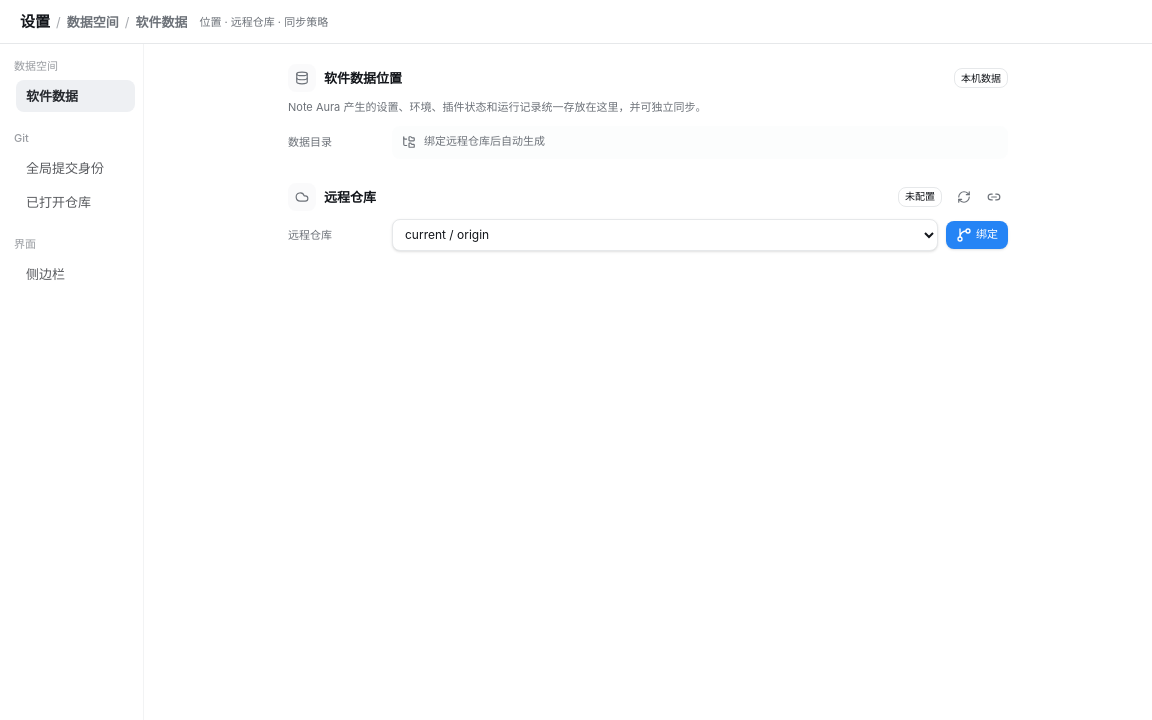
Test: SettingsPanel › shows the actual usage of each configured repository
Click the button "已打开仓库". click: (76, 202)
box: left=16, top=186, right=135, bottom=218
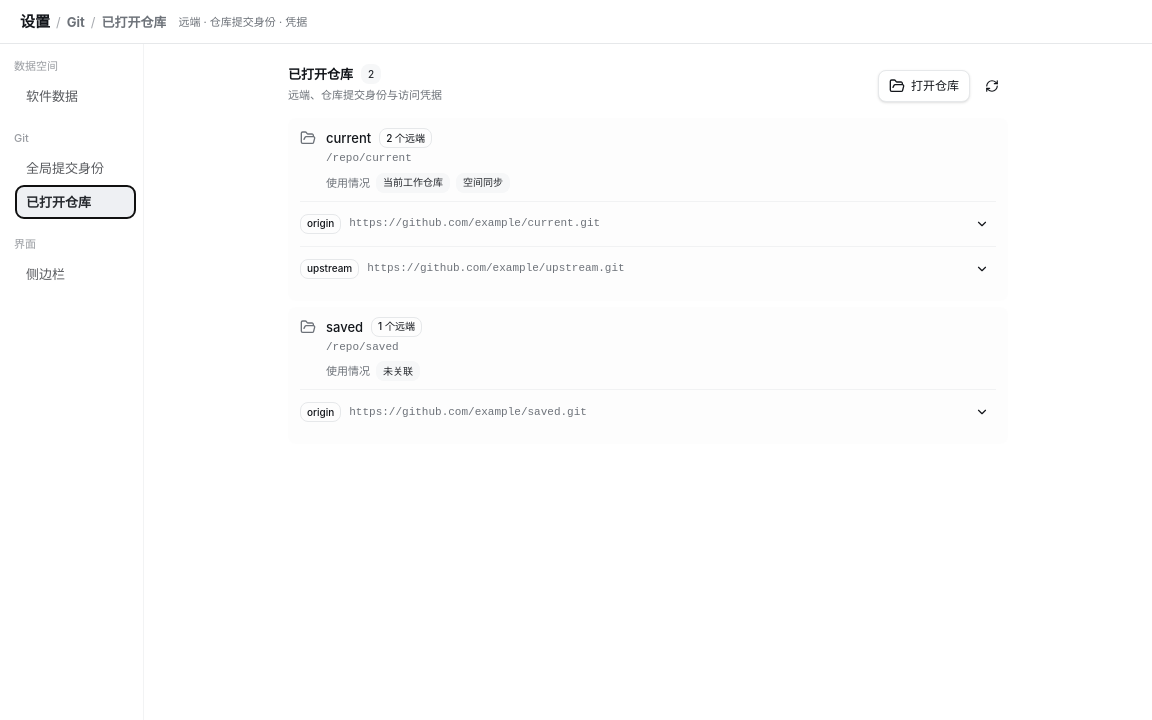
Result: the text "远端 · 仓库提交身份 · 凭据" is shown at left=178, top=14, right=307, bottom=28
Result: the text "Git" next to "设置" is shown at left=67, top=14, right=85, bottom=30
Result: the heading "已打开仓库" is shown at left=288, top=65, right=353, bottom=83
